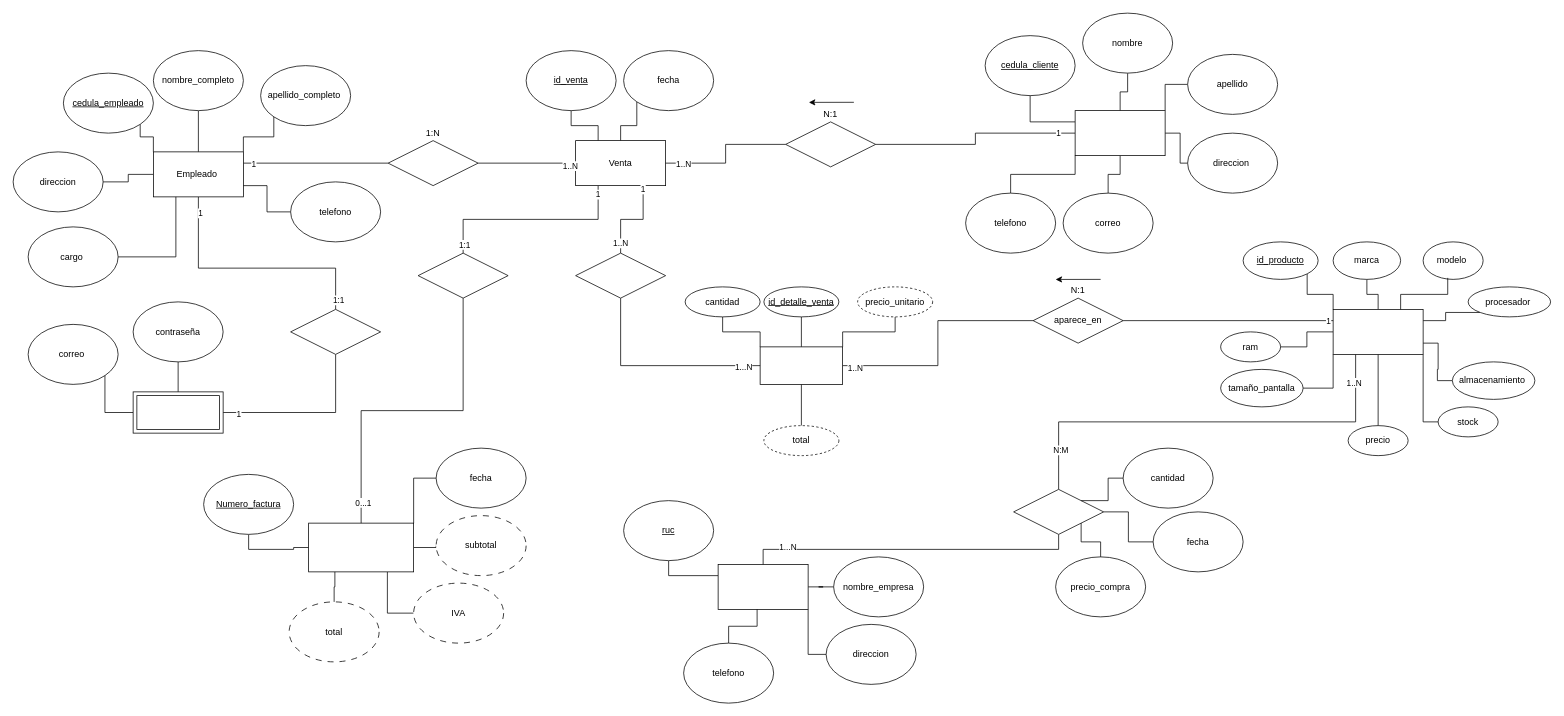
Some shapes in this 1564 by 716 pixel diagram are drawn without their labels. Each missing label, with the centre of its shape:
"cliente" belongs at (1119,133).
"contiene" belongs at (620,275).
"Credencial" belongs at (177,412).
"Detallle de venta" belongs at (801,365).
"esta_en" belongs at (830,144).
"Factura" belongs at (361,547).
"Genera" belongs at (462,275).
"posee" belongs at (335,331).
"Producto" belongs at (1377,331).
"Proveedor" belongs at (762,586).
"registra" belongs at (432,163).
"suministra" belongs at (1058,511).
